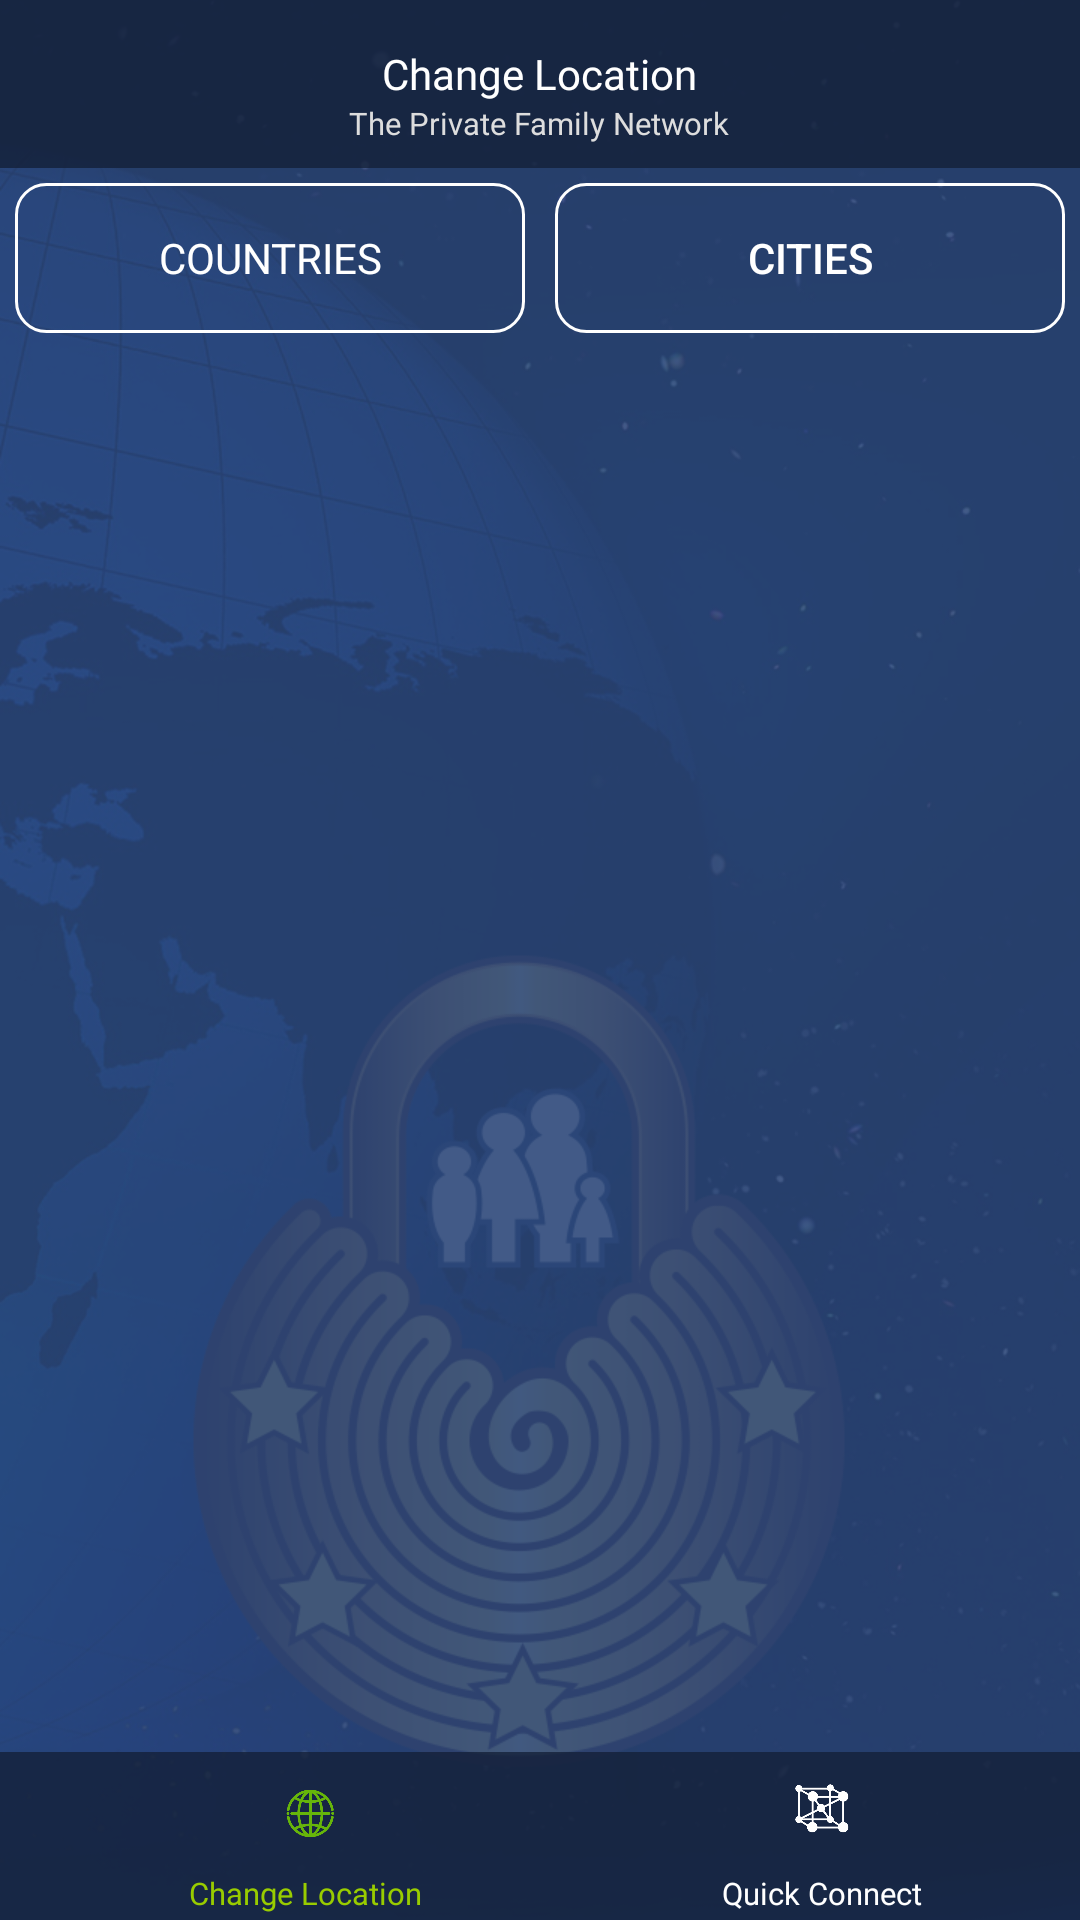

Screen size 1080 × 1920. Icon name, then its box in pixels as (x1, y1, x2, y2):
locationsgreen: (286, 1790, 334, 1837)
